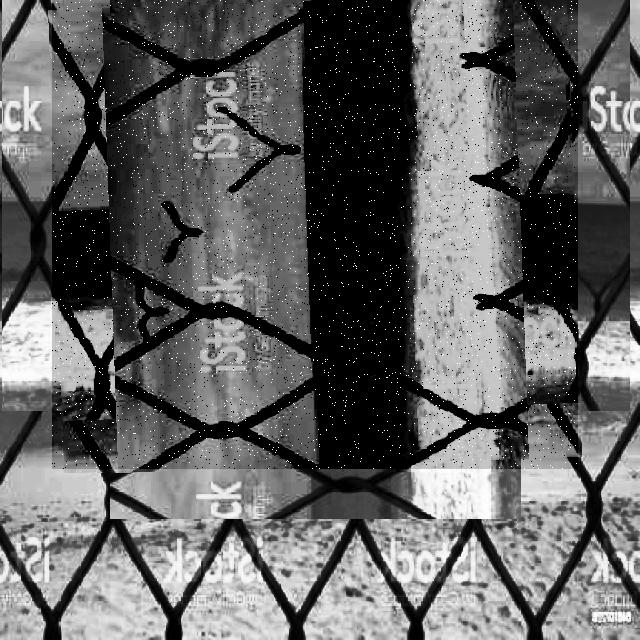anomaly-fence: (52, 0, 578, 469)
